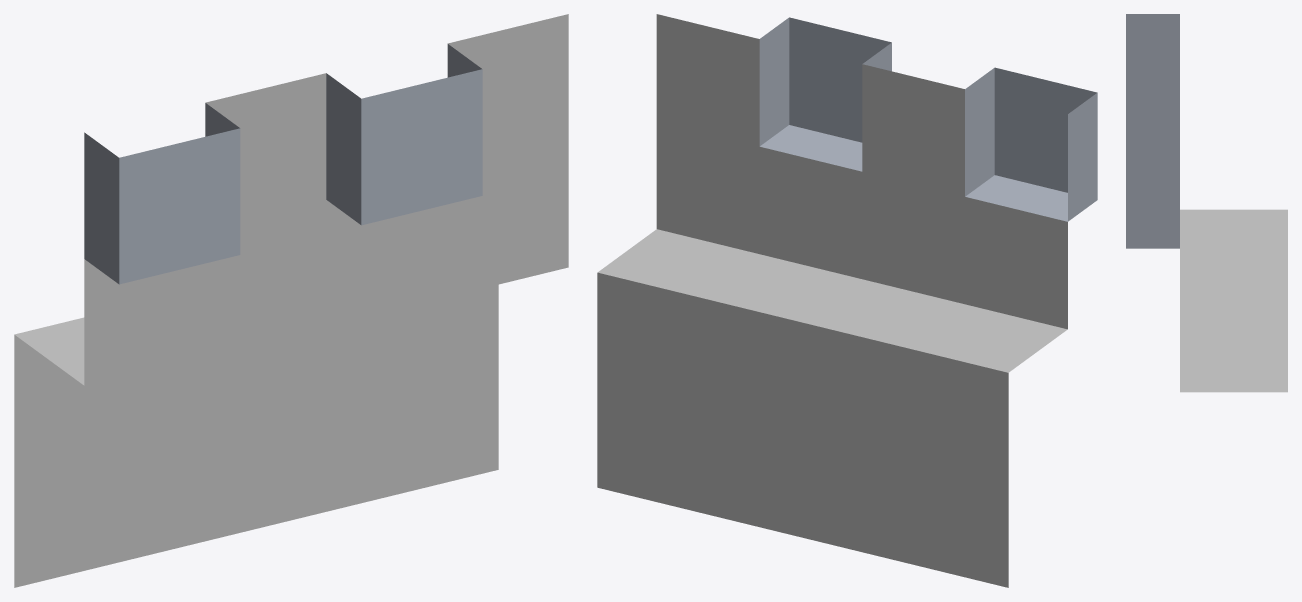
The model's file is cell_174.obj.
3 views of the same model, side by side, from view 1: azimuth 30°, elevation 25°; view 2: azimuth 150°, elevation 25°; view 3: azimuth 270°, elevation 25° (orthographic). The views are drawn at different scales.
Size of the model in its own units: 1 by 1 by 0.375.
